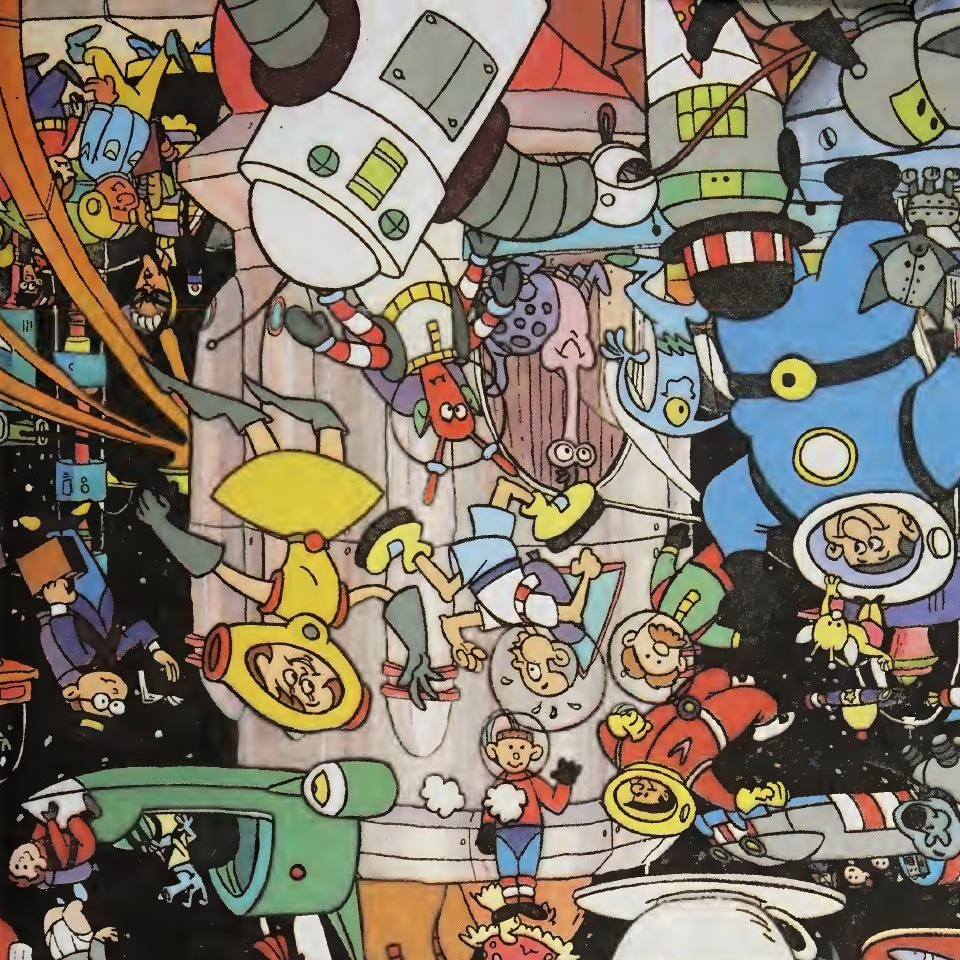waldo: (13, 245, 55, 311)
